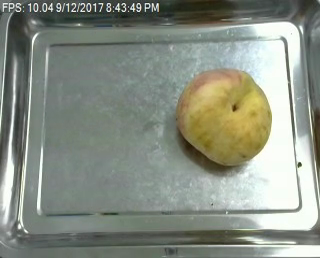Peach: (177, 67, 272, 166)
